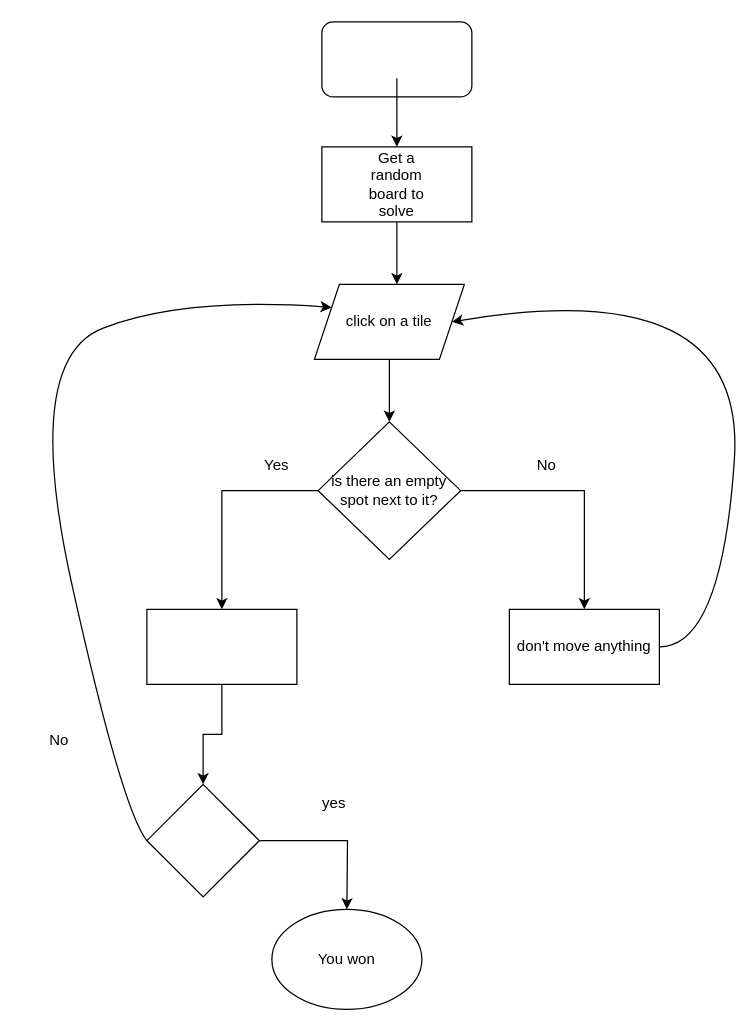
This 756x1031 diagram has some shape labels left out. Each missing label, with the centre of its shape:
Have you solved the puzzle?: the point at 202,840
Move the tile clicked to the empty spot: the point at 221,646
start the game: the point at 396,59
